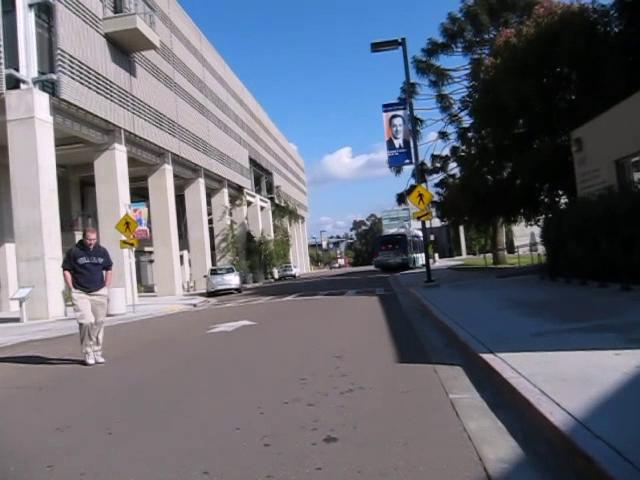pedestrianCrossing: (406, 183, 434, 212), (114, 212, 138, 238)
